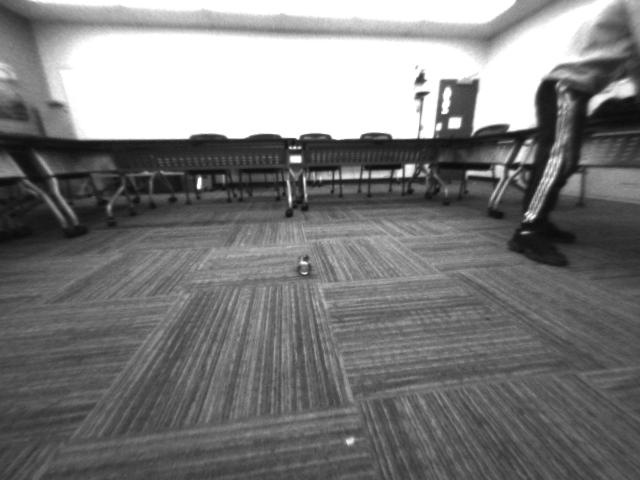can: (291, 252, 326, 281)
